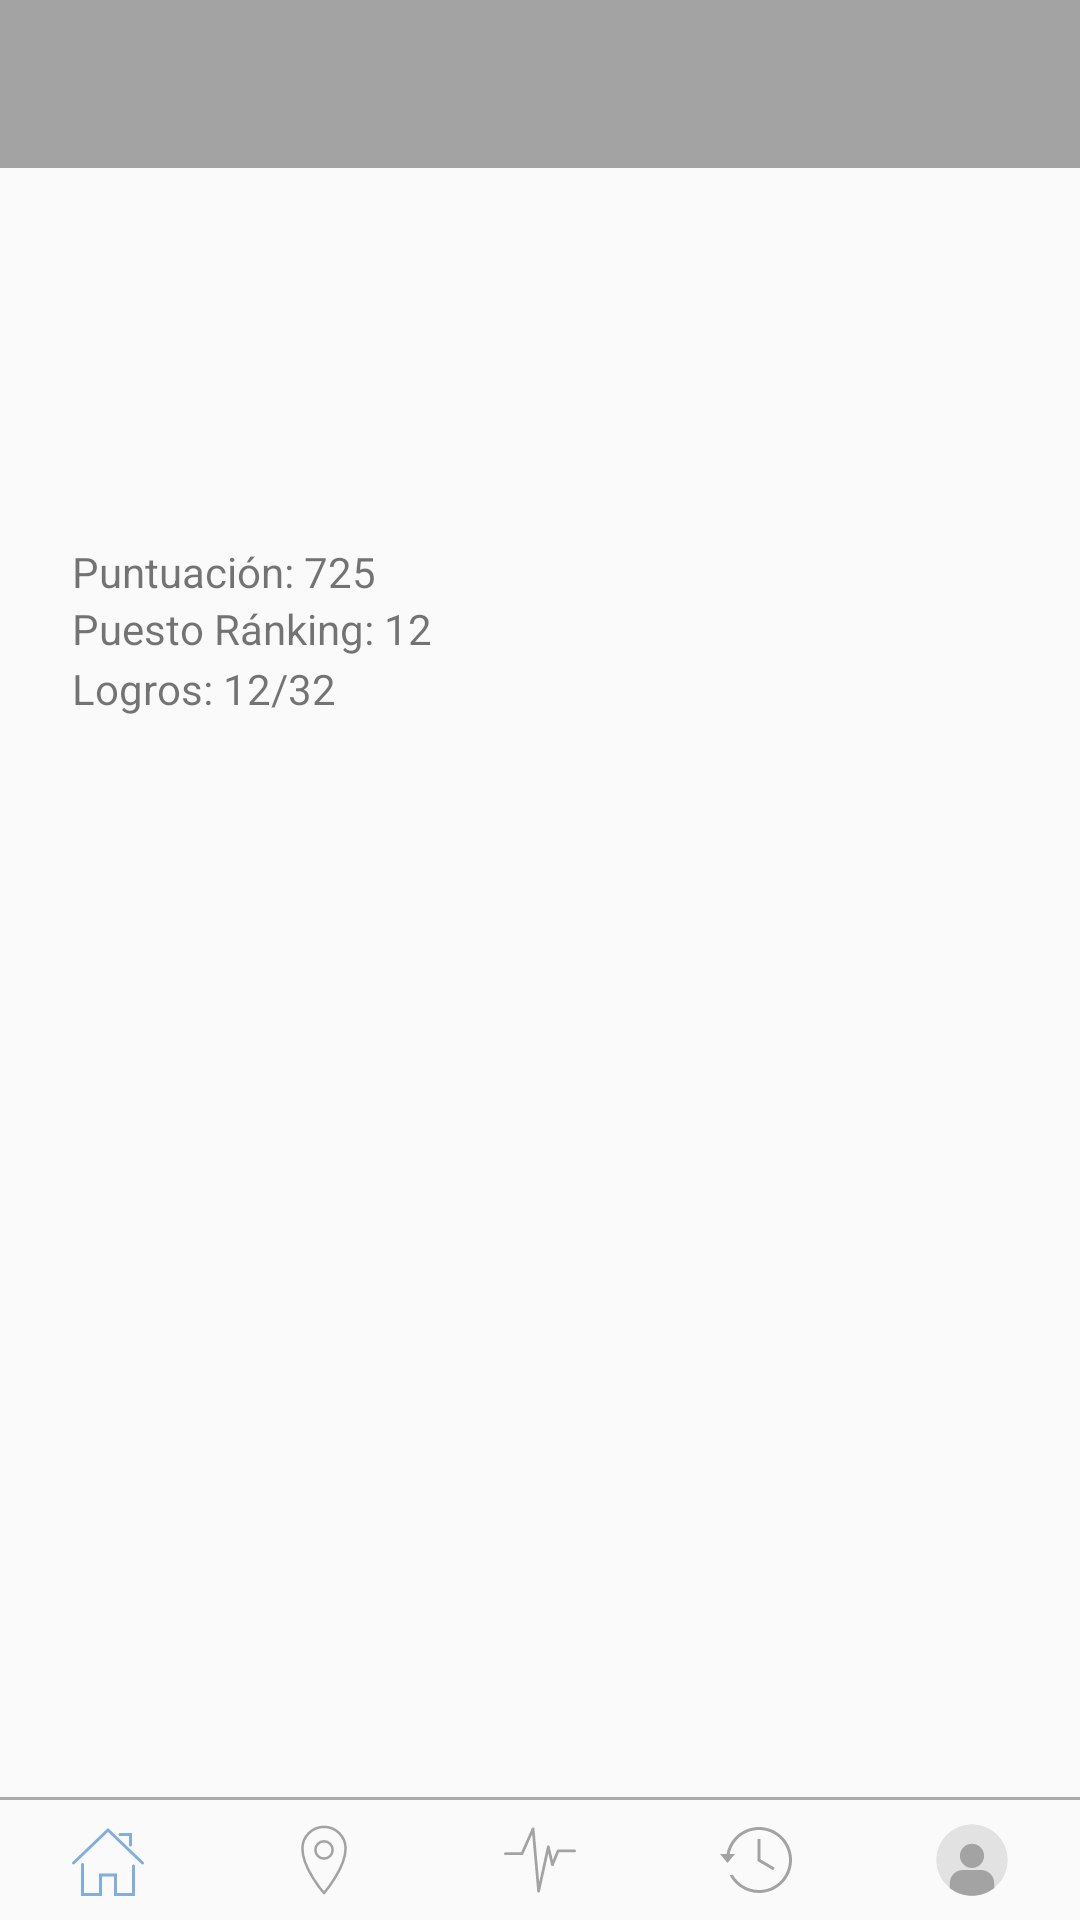

Icons on this 1080x1920 Android screen, each with the point to tap as (x,y):
Este botón da acceso al apartado de diagnóstico: (540,1860)
Este botón da acceso al apartado de historial: (756,1860)
Este botón da acceso al apartado de localización: (324,1859)
Este botón da acceso al apartado de perfil de usuario: (972,1869)
Este botón da acceso al apartado home: (108,1862)
